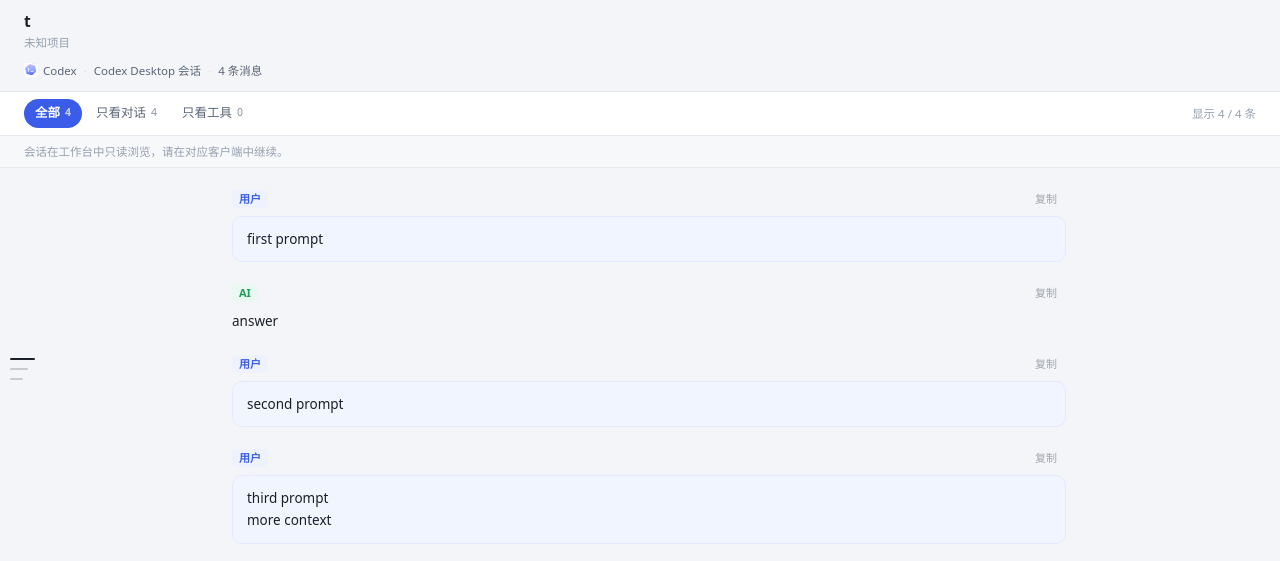
Test: shows a preview and expands nearby ticks as the pointer moves
The image size is (1280, 561).
Hover over the button named "first prompt": (22, 359) [8,354,37,364]
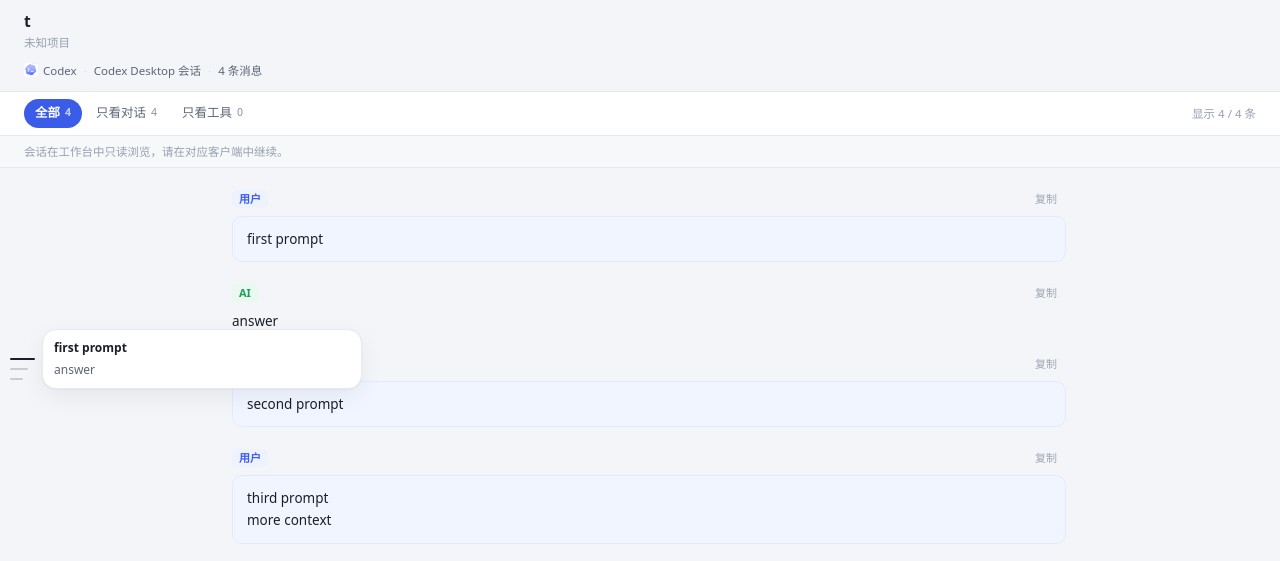
Now the element with class "minimap-preview" reads "first prompt answer", box [42,329,362,389]
Hover over the button named "third prompt more context": (22, 379) [8,374,37,384]
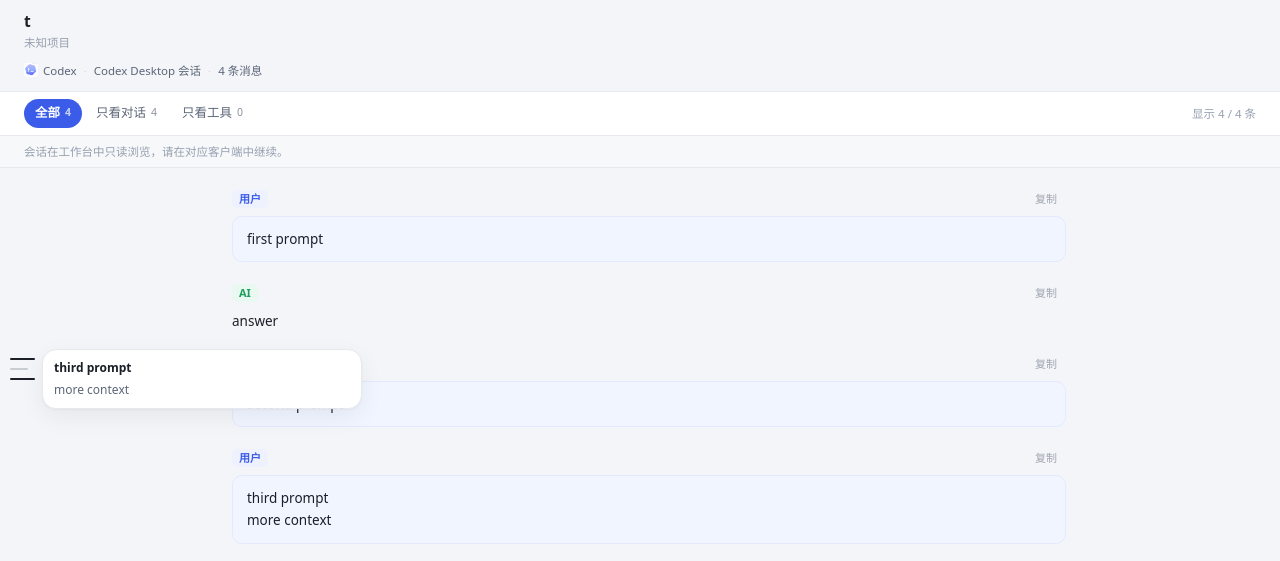
Now the element with class "minimap-preview" reads "third prompt more context", box [42,349,362,409]
Move the pointer off the navigation bar named "用户对话导航", box [8,354,37,384]
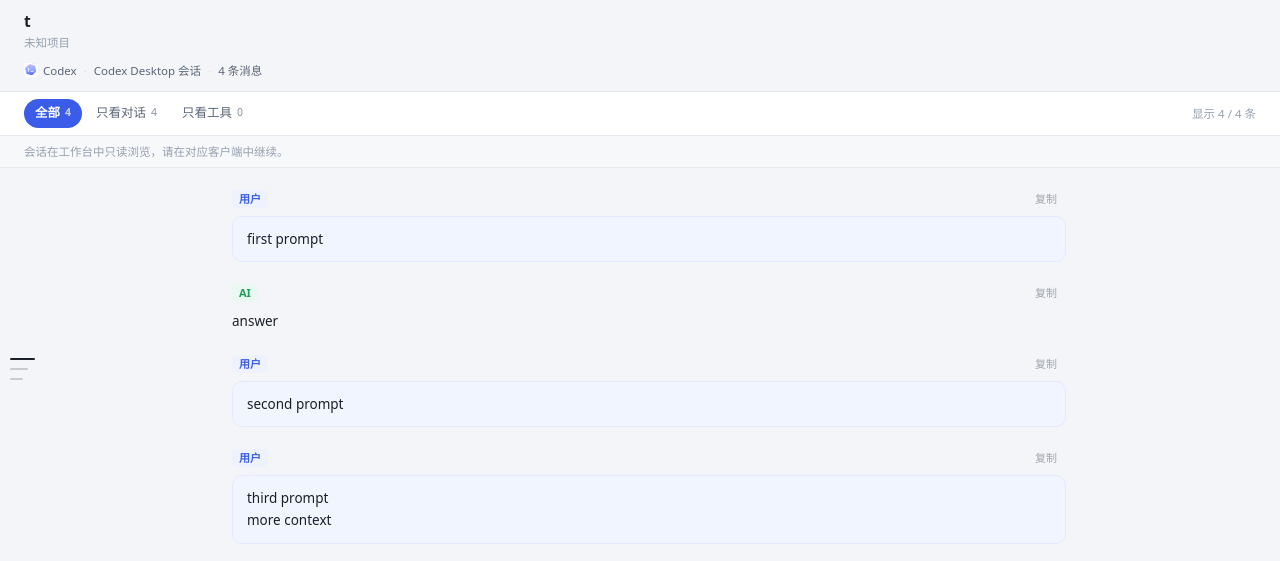
Now the element with class "minimap-preview" is gone
